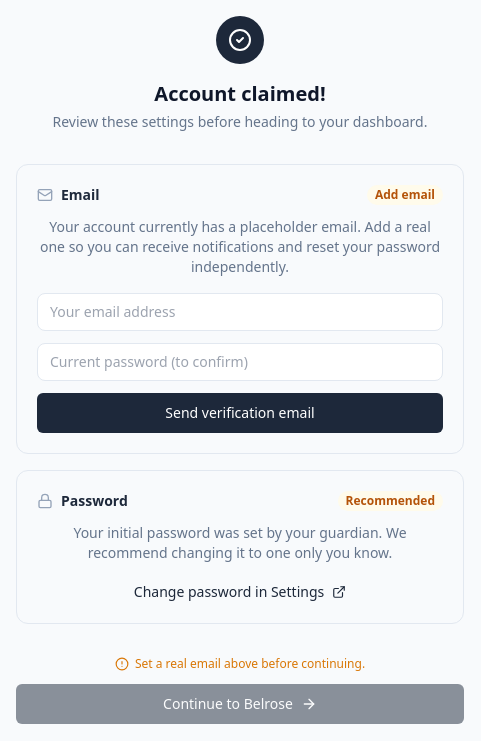
Scenario: AccountSetupPage — EmailSection › submits a real email from the placeholder-email form and shows the sent state
The width and height of the screenshot is (481, 741).
In the field with placeholder "Your email address": (240, 312) x1=37 y1=293 x2=443 y2=331, type "new@example.com"
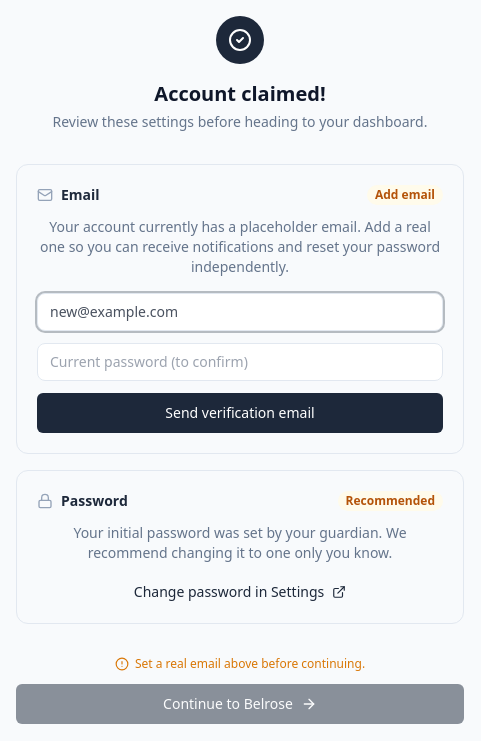
In the password field with placeholder "Current password (to confirm)": (240, 362) x1=37 y1=343 x2=443 y2=381, type "password123"
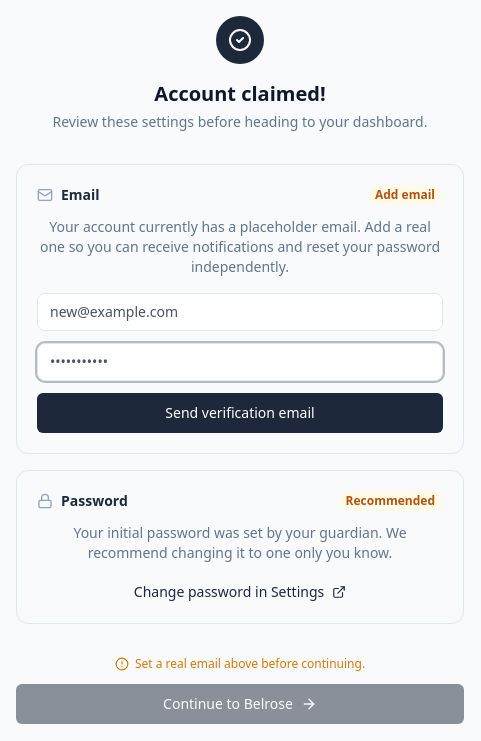
Click the button "Send verification email": (240, 413) x1=37 y1=393 x2=443 y2=433
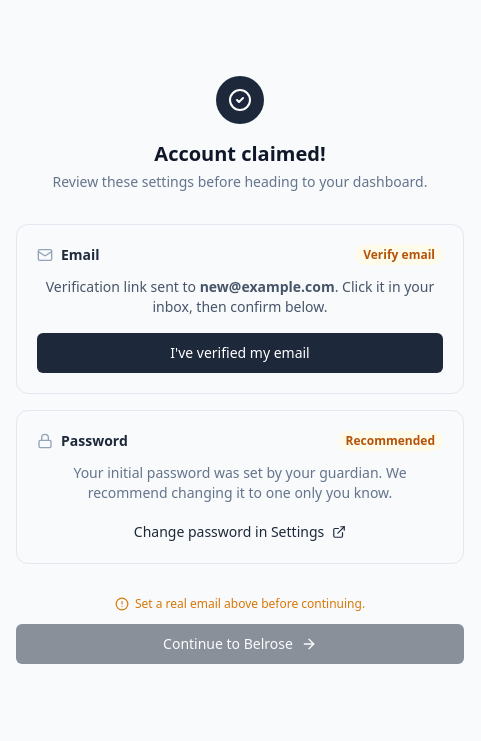
Result: the text "Verification link sent to" is shown at x1=46 y1=277 x2=200 y2=296
